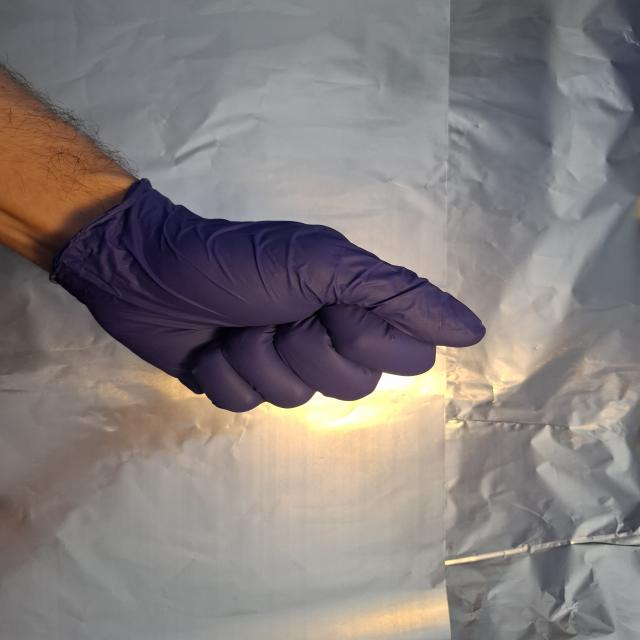glove_on: (44, 172, 492, 417)
